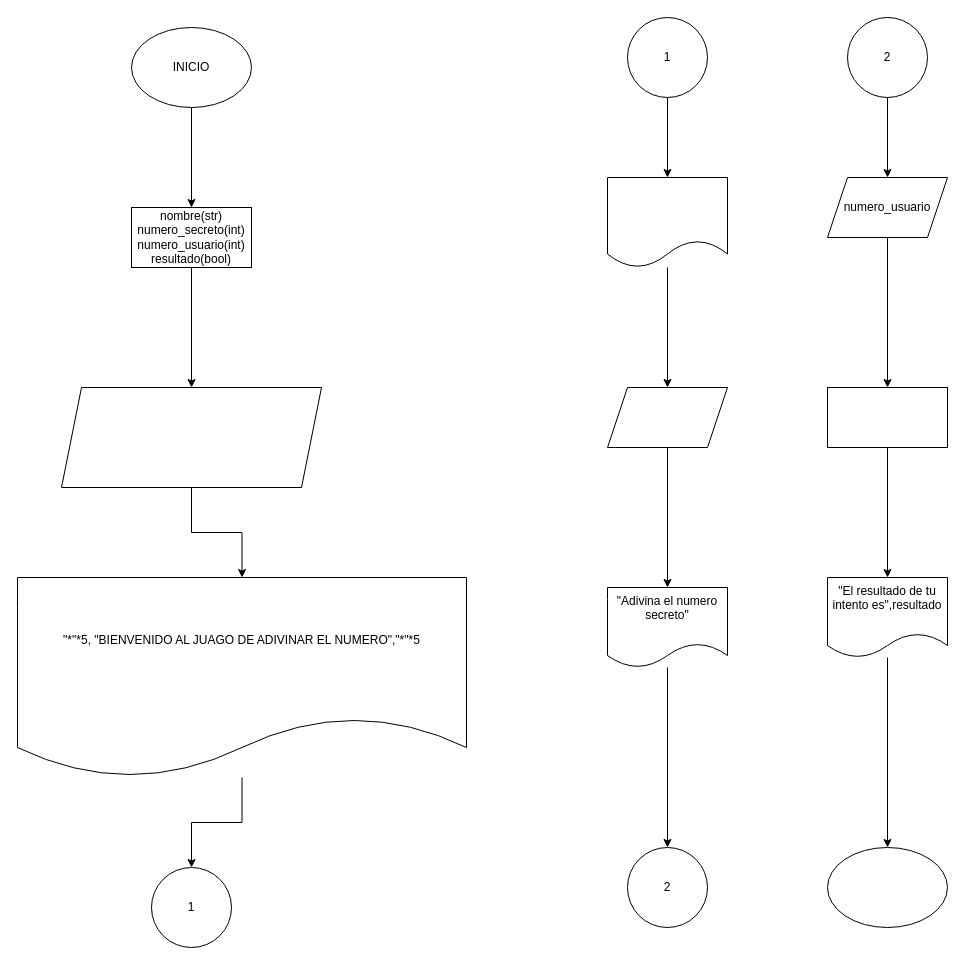
Image size: 965x965. Some labels were removed from this diagram. The centre of each missing label's shape, as x and y in pixels:
"Escreibe tu nombre": point (667, 222)
FIN: point (887, 887)
nombre: point (667, 417)
numero_secreto=random(1,100): point (191, 437)
resultado= numero _secreto == numero_usuario: point (887, 417)
